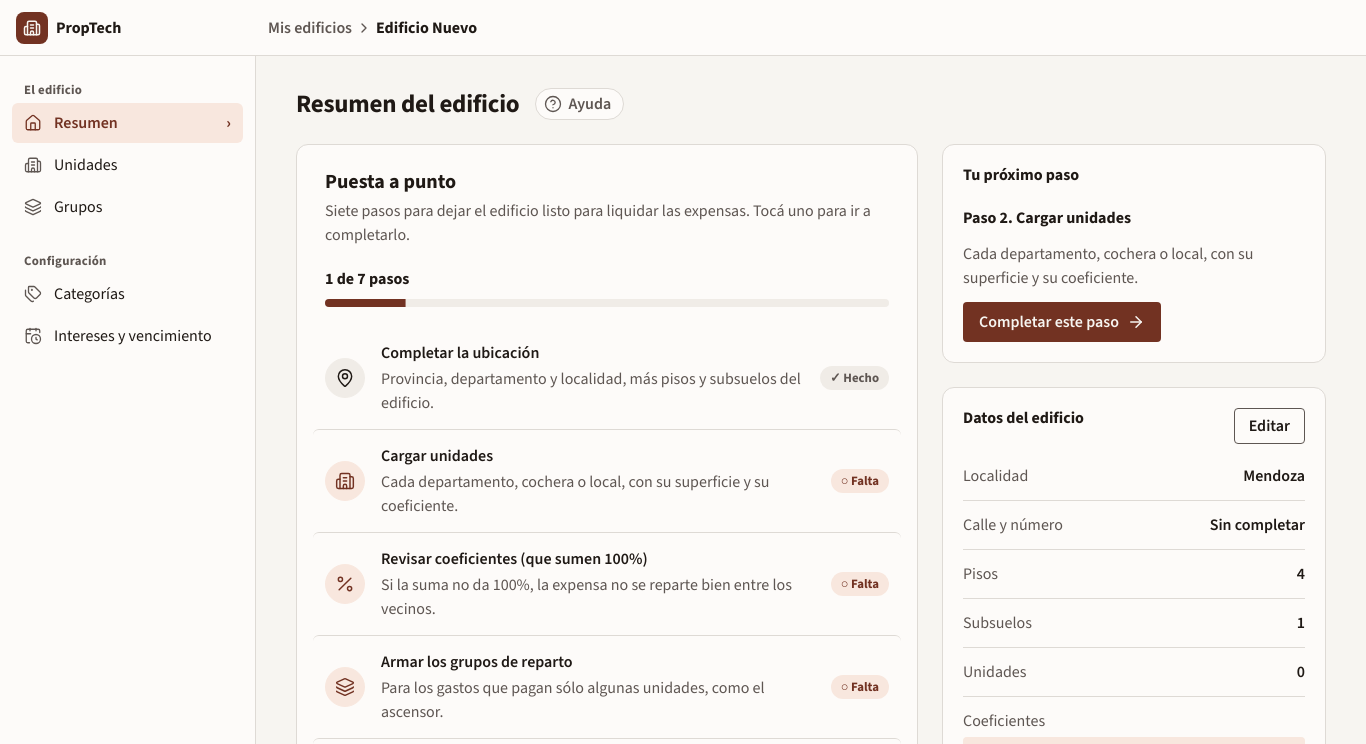
Test case: PantallaResumen › D3 (6.1) "Editar el edificio desde el resumen": "Editar" abre el panel con los datos actuales
The image size is (1366, 744).
Click the button "Editar".
click(1269, 426)  # box [1234,408,1305,444]
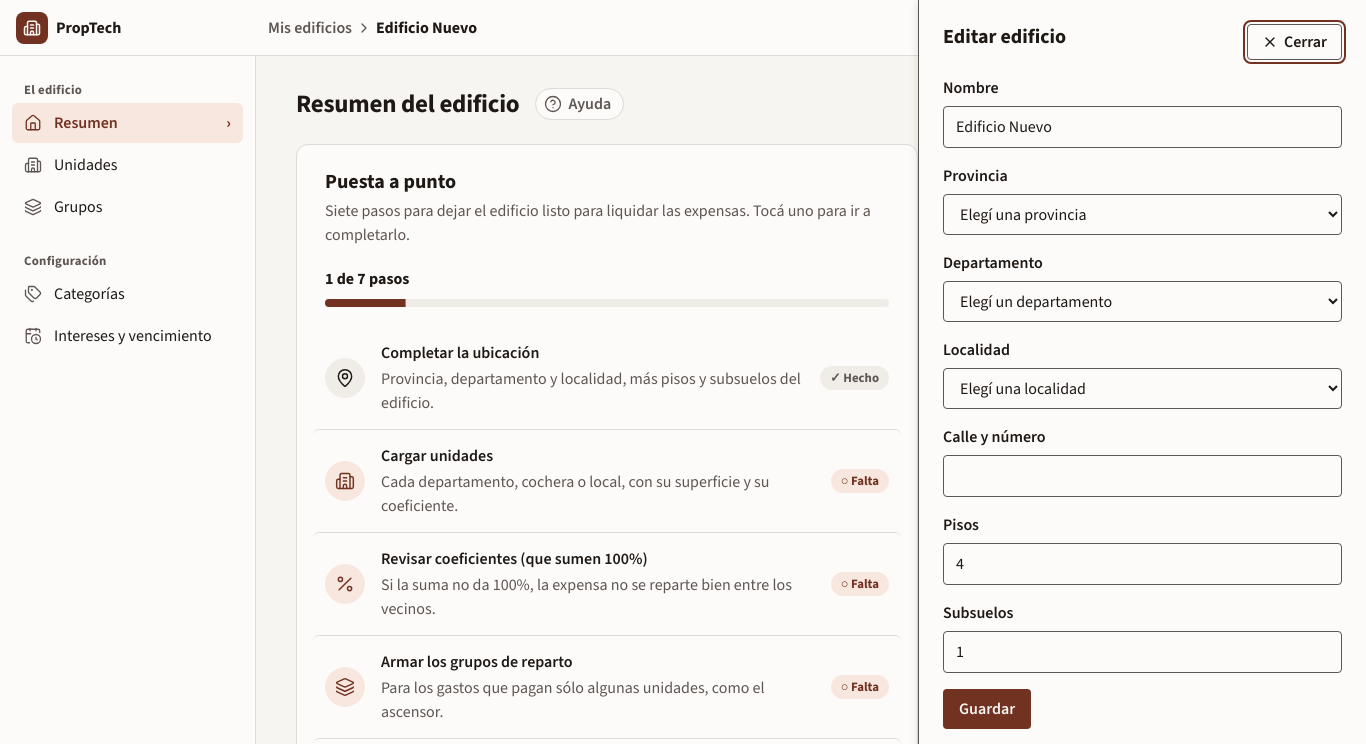
Now the field labelled "Nombre" holds "Edificio Nuevo", box [943,106,1342,148]
Now the number field labelled "Pisos" holds "4", box [943,543,1342,585]
